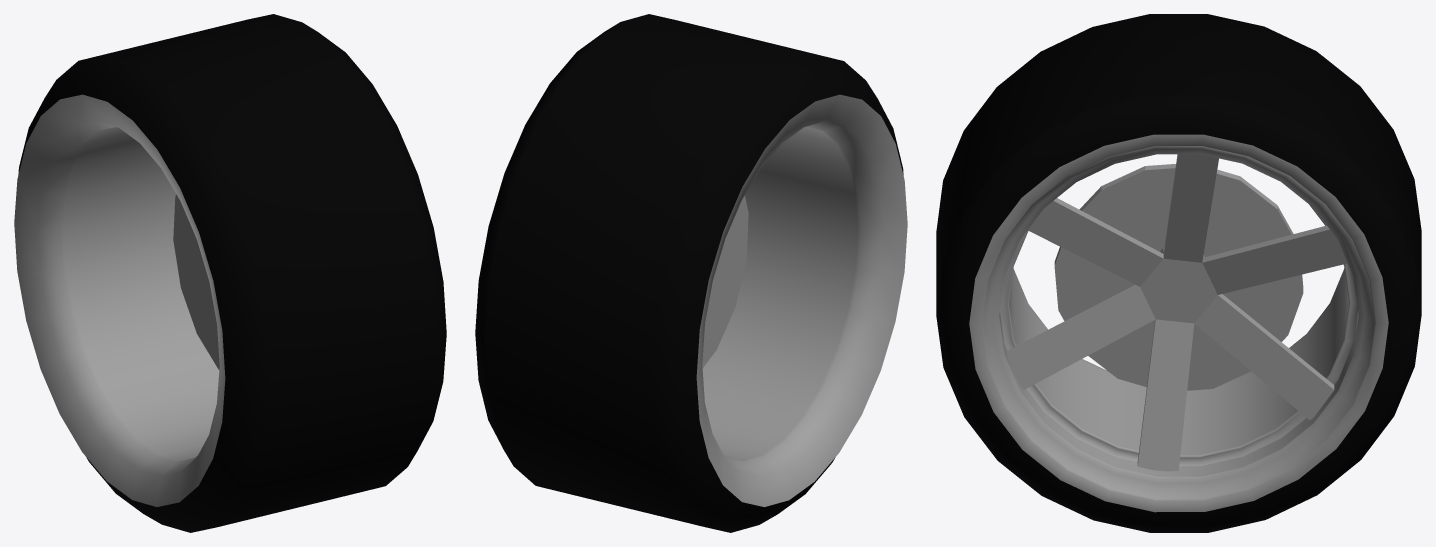
The model's file is Car_10_Front_Left_Wheel.FBX.
3 views of the same model, side by side, from view 1: azimuth 30°, elevation 25°; view 2: azimuth 150°, elevation 25°; view 3: azimuth 270°, elevation 25° (orthographic).
Visible parts, largest first — view 1: Car_10_Rear_Left_Wheel; view 2: Car_10_Rear_Left_Wheel; view 3: Car_10_Rear_Left_Wheel.
Part boxes in pixels (x1,y1,x2,y2): Car_10_Rear_Left_Wheel: [14, 14, 446, 532]; Car_10_Rear_Left_Wheel: [475, 14, 907, 532]; Car_10_Rear_Left_Wheel: [936, 14, 1421, 532].
Bounding box in the file's own units: 36.91 × 72.11 × 72.61.
